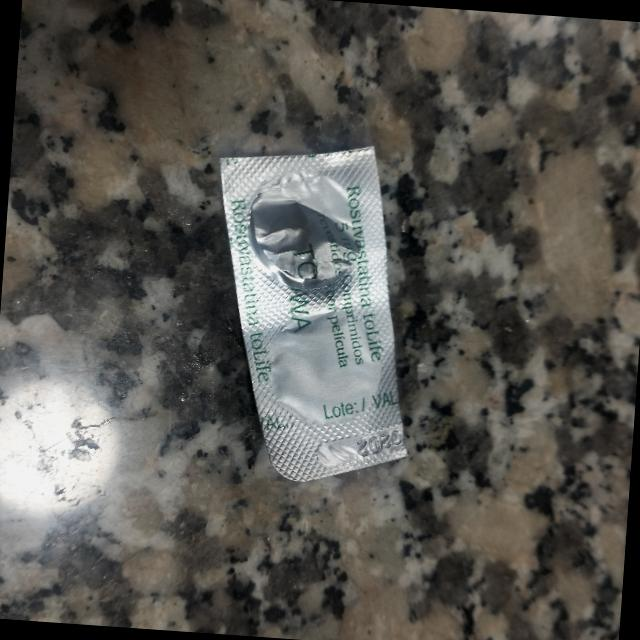blister: (197, 134, 430, 492)
